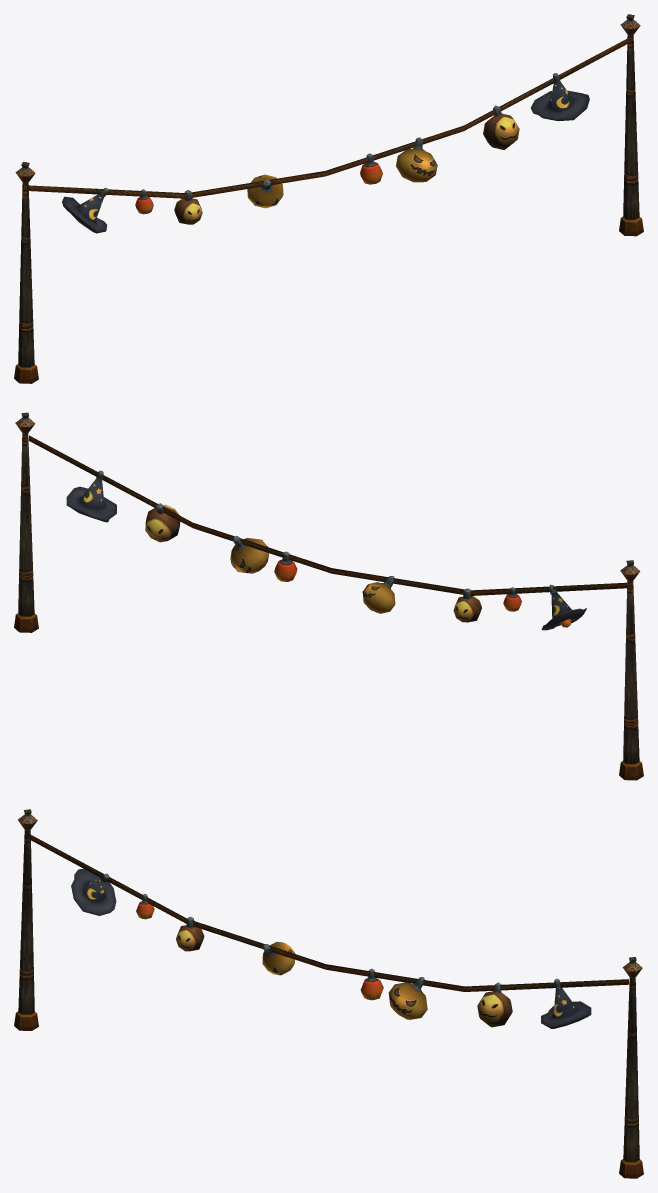
Rendered from Halloween_lighting03.FBX.
3 renders of one model, top to bottom at view 1: azimuth 30°, elevation 25°; view 2: azimuth 150°, elevation 25°; view 3: azimuth 330°, elevation 25°, orthographic.
Visible parts, largest first — view 1: Halloween_lighting03; view 2: Halloween_lighting03; view 3: Halloween_lighting03.
Boxes of the visible parts, x1,y1,x2,y2 form: Halloween_lighting03: (14,14,643,383); Halloween_lighting03: (14,412,643,780); Halloween_lighting03: (14,809,643,1178).
Bounding box in the file's own units: 1832 × 601 × 152.
